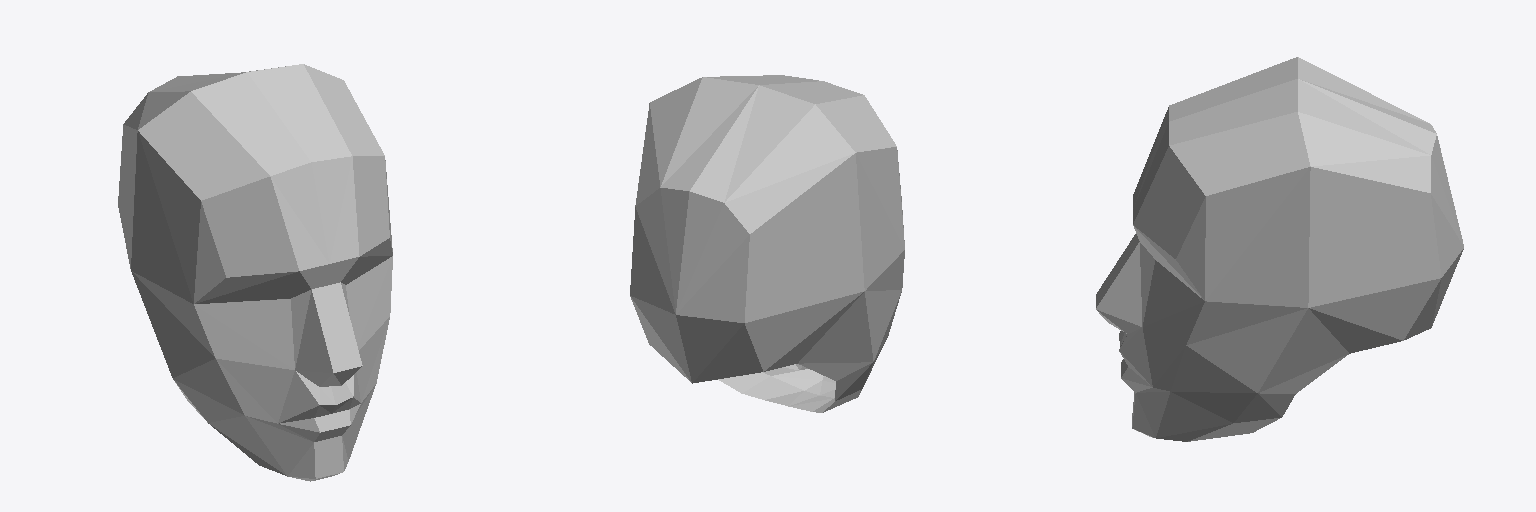
The model's file is head.obj.
3 views of the same model, side by side, from view 1: azimuth 30°, elevation 25°; view 2: azimuth 150°, elevation 25°; view 3: azimuth 270°, elevation 25° (orthographic).
Visible parts, largest first — view 1: Plane.011_Plane.022; view 2: Plane.011_Plane.022; view 3: Plane.011_Plane.022.
Boxes of the visible parts, x1,y1,x2,y2 form: Plane.011_Plane.022: [118, 64, 392, 481]; Plane.011_Plane.022: [630, 75, 904, 412]; Plane.011_Plane.022: [1096, 57, 1463, 441].
Size of the model in its own units: 2.7 by 4.13 by 3.89.